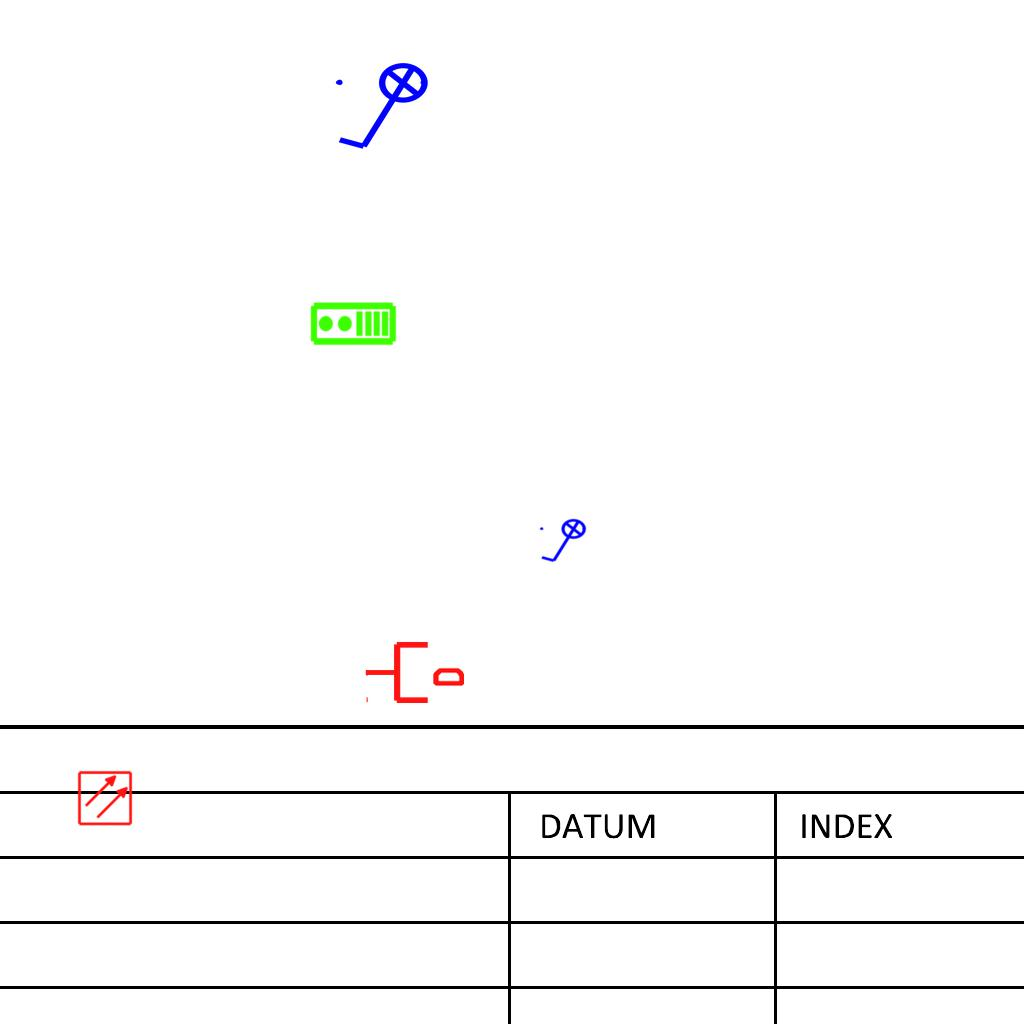Ausschalter_beleuchtet: (330, 61, 442, 157), (537, 518, 593, 566)
Datenanschluss_einfach: (364, 638, 464, 707)
Gegensprechanlage_mit_Video: (309, 301, 397, 348)
RMO_Rauchmelder_optischer: (77, 770, 133, 826)
